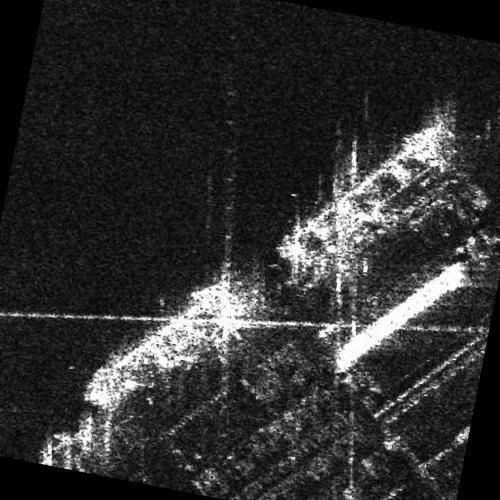ship: (278, 118, 459, 268), (82, 286, 246, 410)
